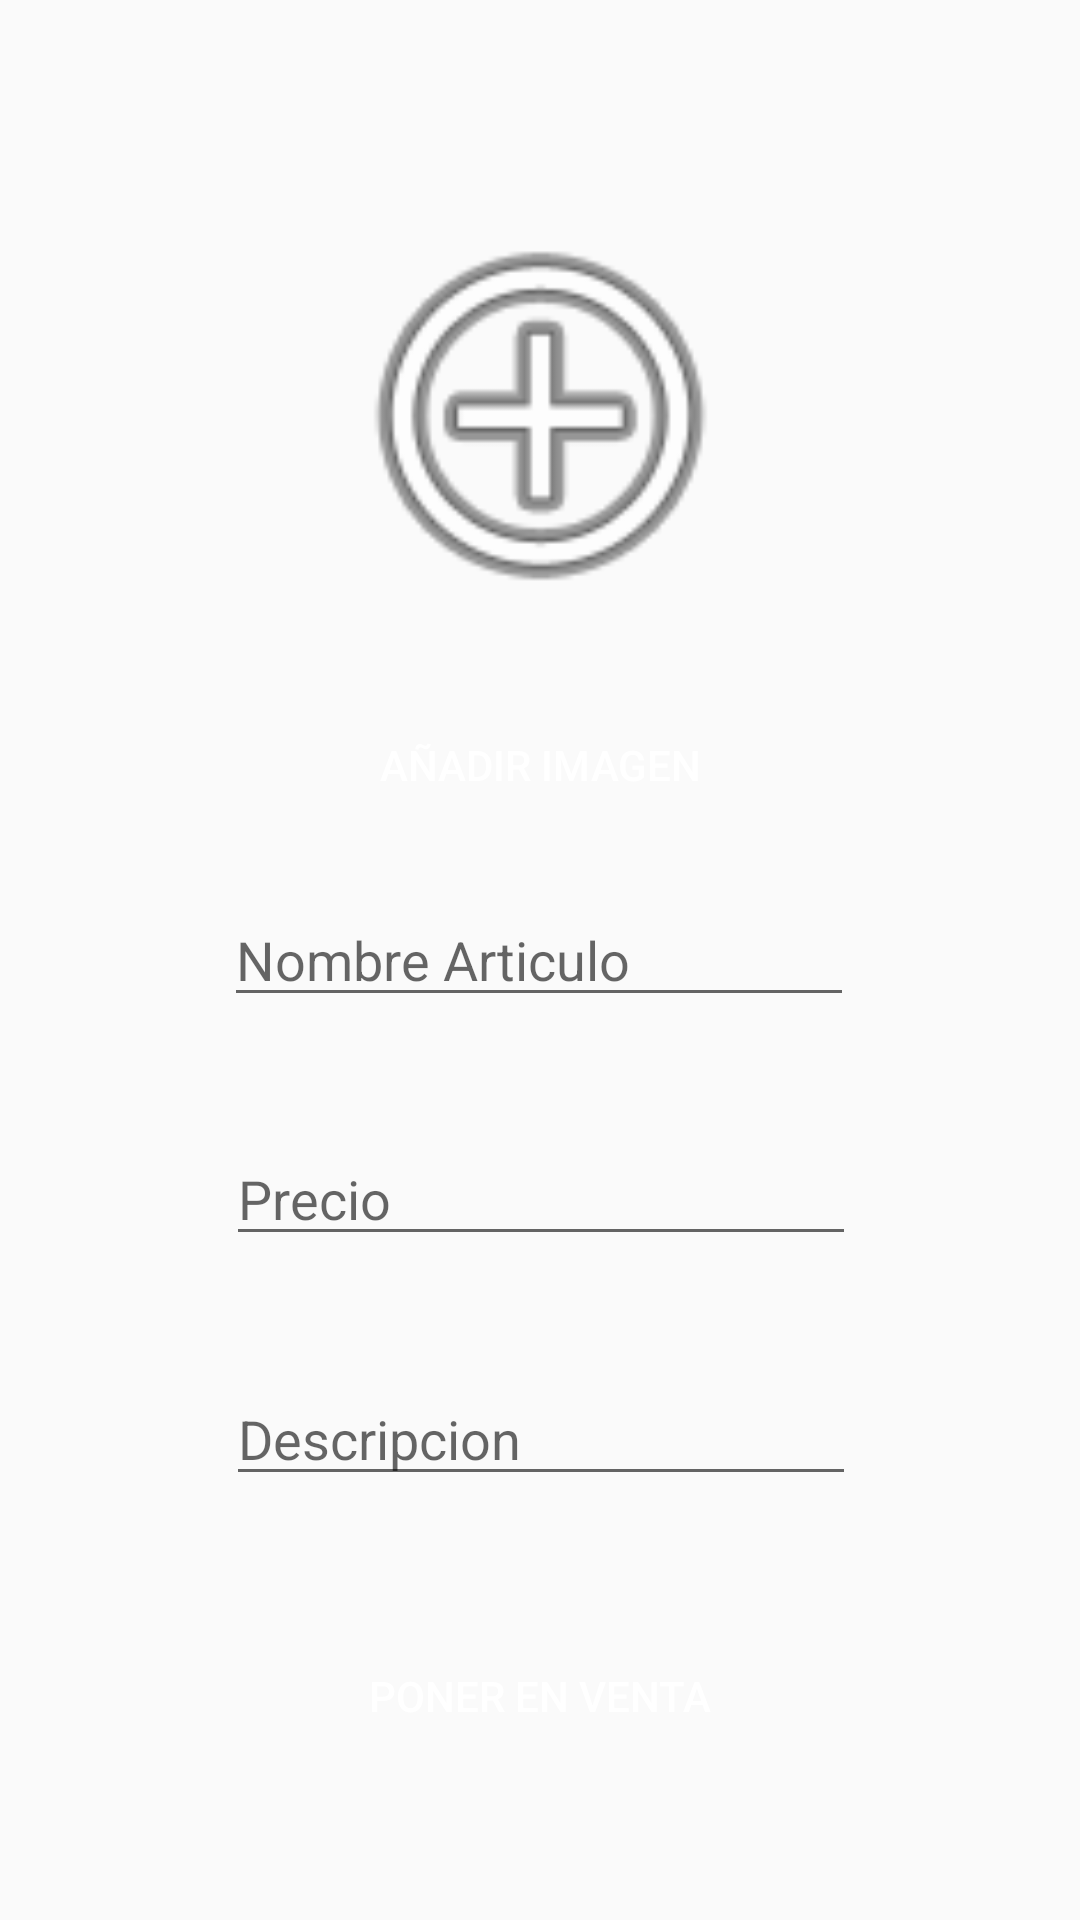

Where icons sit on this 1080x1920 app screen, as (x1, y1, x2, y2):
add: (376, 252, 705, 580)
